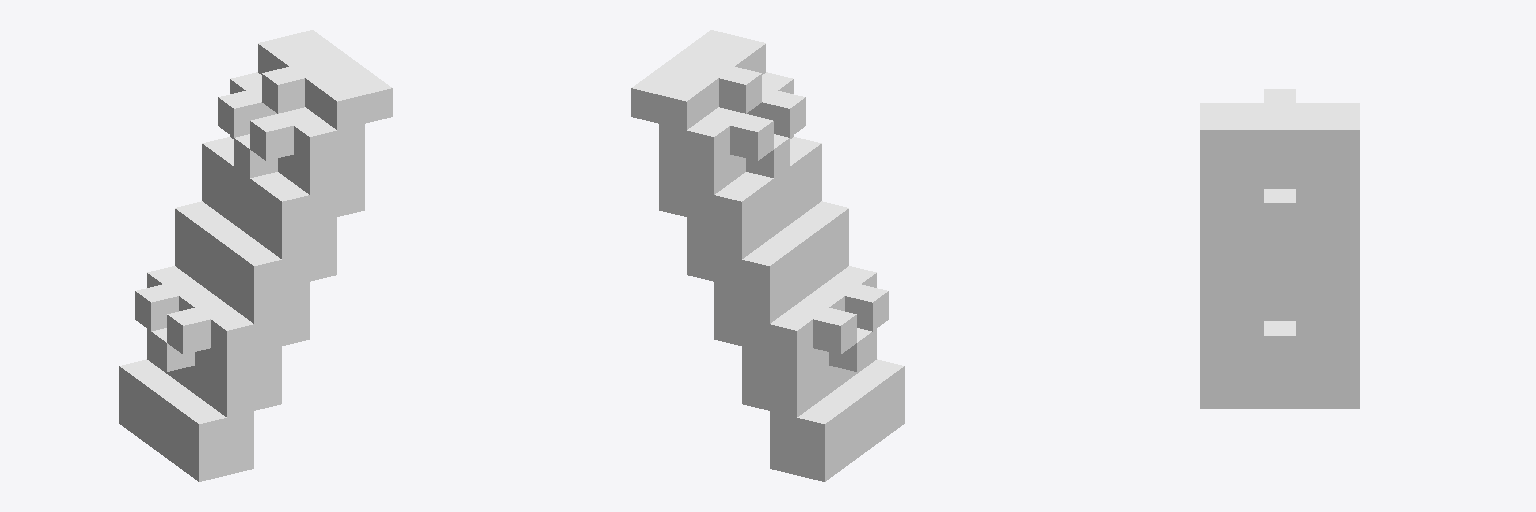
The model's file is Smol-BrokenFence-2.obj.
3 views of the same model, side by side, from view 1: azimuth 30°, elevation 25°; view 2: azimuth 150°, elevation 25°; view 3: azimuth 270°, elevation 25° (orthographic).
Visible parts, largest first — view 1: object 1; view 2: object 1; view 3: object 1.
Boxes of the visible parts, x1,y1,x2,y2 form: object 1: [119, 30, 392, 481]; object 1: [631, 30, 904, 481]; object 1: [1200, 89, 1359, 408].
Bounding box in the file's own units: 0.7 × 1.2 × 0.5.